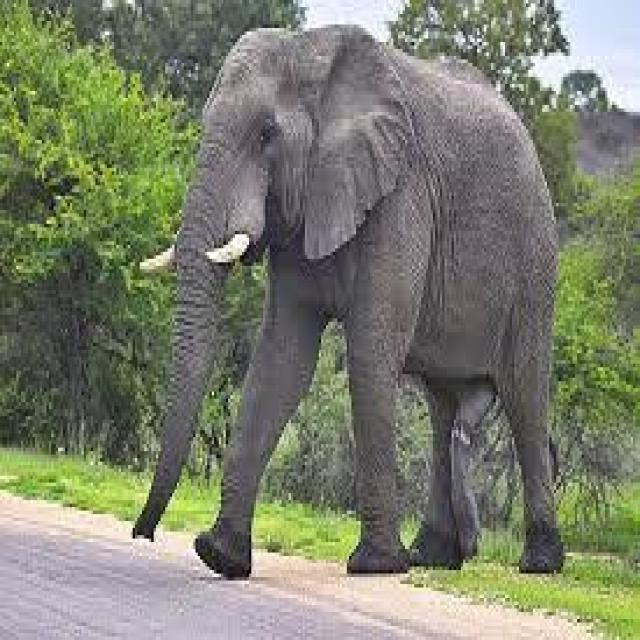Elephant: (124, 25, 566, 570)
